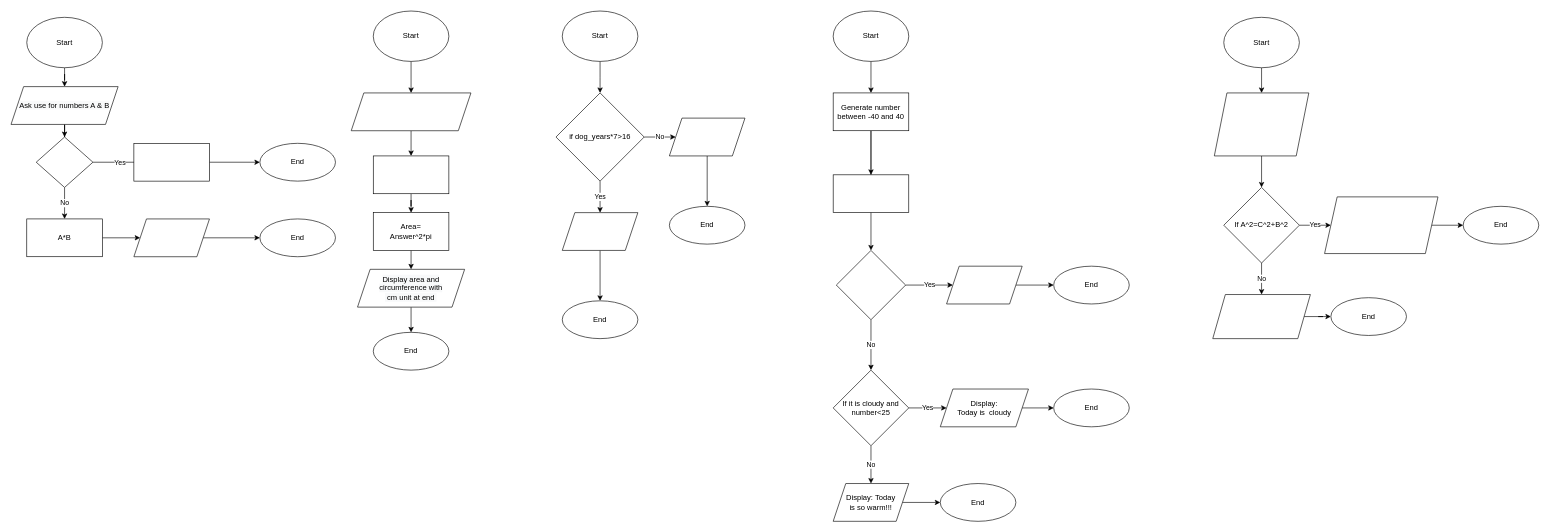
Image size: 1550x532. Some labels were removed from this diagram. Here are the shapes that lost their labels. From the top down, the centre of each, then its label:
At point 411,111: "Ask user radius of circle in cm".
At point 1261,124: "Ask user for side A, B and C (A being the longest side)".
At point 707,136: "Print Zak is older".
At point 64,161: "Is A greater than B".
At point 171,162: "A+B".
At point 411,174: "Circumference= Answer*pi*2".
At point 871,193: "Randomly choose if it cloudy or sunny".
At point 171,237: "Display answer".
At point 600,231: "Print dog is older".
At point 1381,225: "Display: It is a right triangle".
At point 871,285: "If number is less than 0".
At point 984,285: "Display: Today is cold".
At point 1261,316: "Display: It is not a right triangle".
